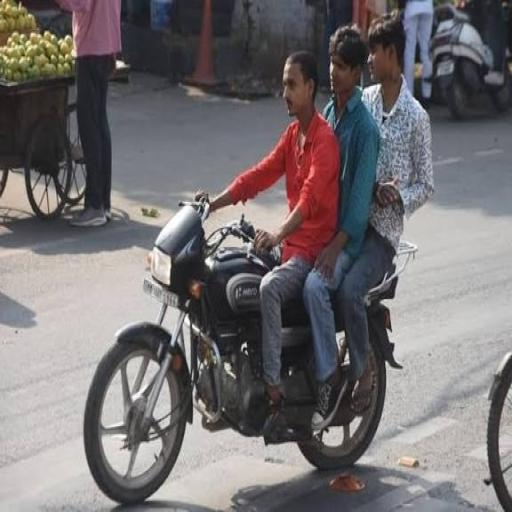no_helmet: (328, 22, 363, 94), (283, 52, 319, 115)
